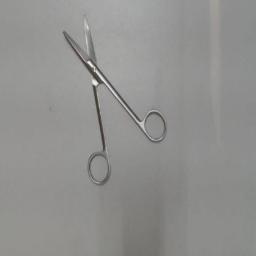Curved Mayo Scissors: (58, 8, 170, 190)
